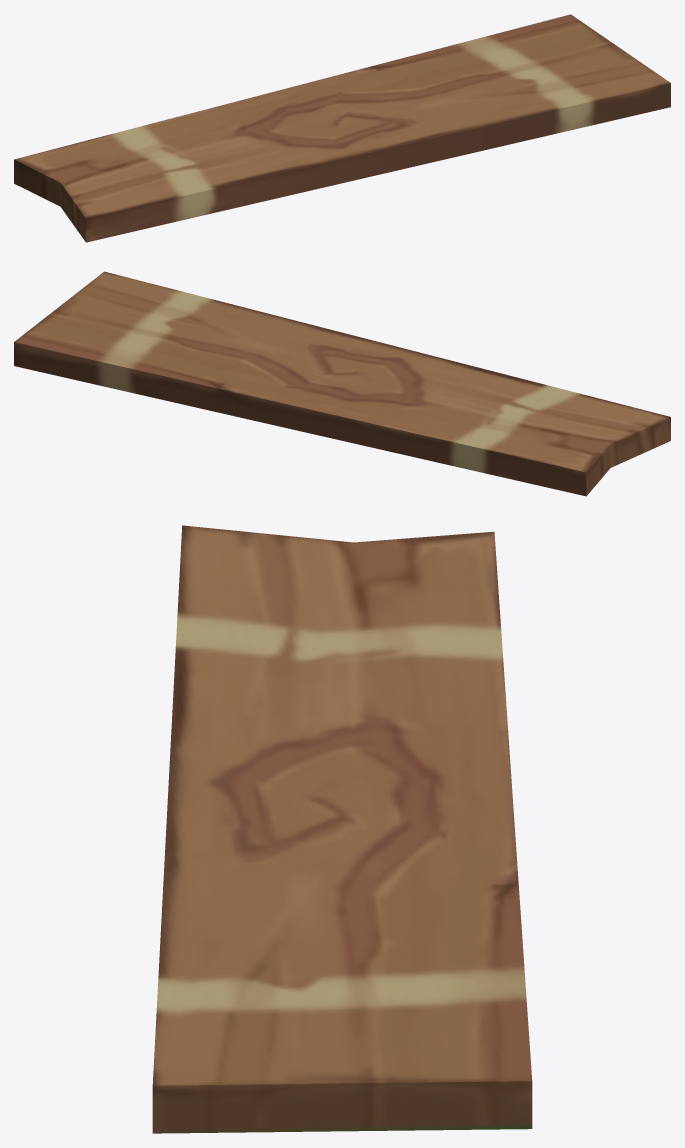
Rendered from map_7004_mt_2.FBX.
3 views of the same model, one above another, from view 1: azimuth 30°, elevation 25°; view 2: azimuth 150°, elevation 25°; view 3: azimuth 270°, elevation 25° (orthographic). The views are drawn at different scales.
Visible parts, largest first — view 1: map_7004_mt_2; view 2: map_7004_mt_2; view 3: map_7004_mt_2.
Boxes of the visible parts, x1,y1,x2,y2 form: map_7004_mt_2: (14,14,670,242); map_7004_mt_2: (14,271,670,496); map_7004_mt_2: (152,525,532,1133).
Size of the model in its own units: 2.44 by 0.0972 by 0.6982.
